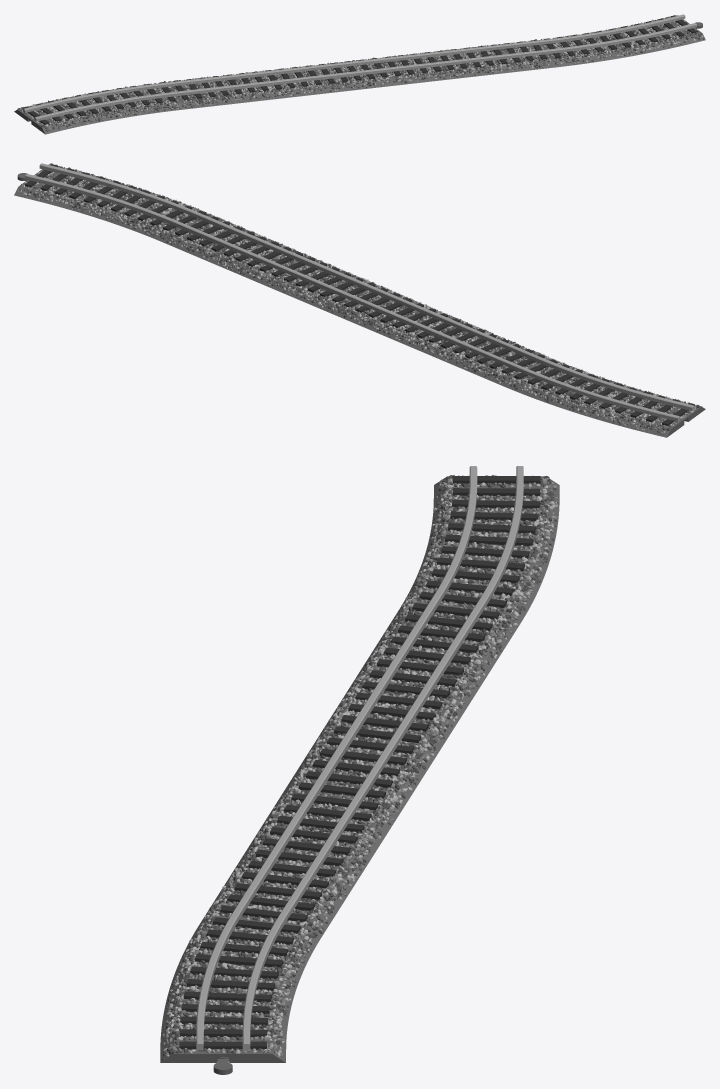
The model's file is Rail_Shift_Right_100.obj.
The picture shows the model from 3 angles, top to bottom: view 1: azimuth 30°, elevation 25°; view 2: azimuth 150°, elevation 25°; view 3: azimuth 270°, elevation 25°; orthographic projection. The views are drawn at different scales.
Parts seen in each view (by area): view 1: Rail_Shift_Right_100; view 2: Rail_Shift_Right_100; view 3: Rail_Shift_Right_100.
Part boxes in pixels (x1,y1,x2,y2): Rail_Shift_Right_100: (14,14,705,134); Rail_Shift_Right_100: (14,163,705,437); Rail_Shift_Right_100: (160,466,559,1074).
Bounding box in the file's own units: 5.1 × 0.0816 × 1.46.
1 material, 1 textured.
